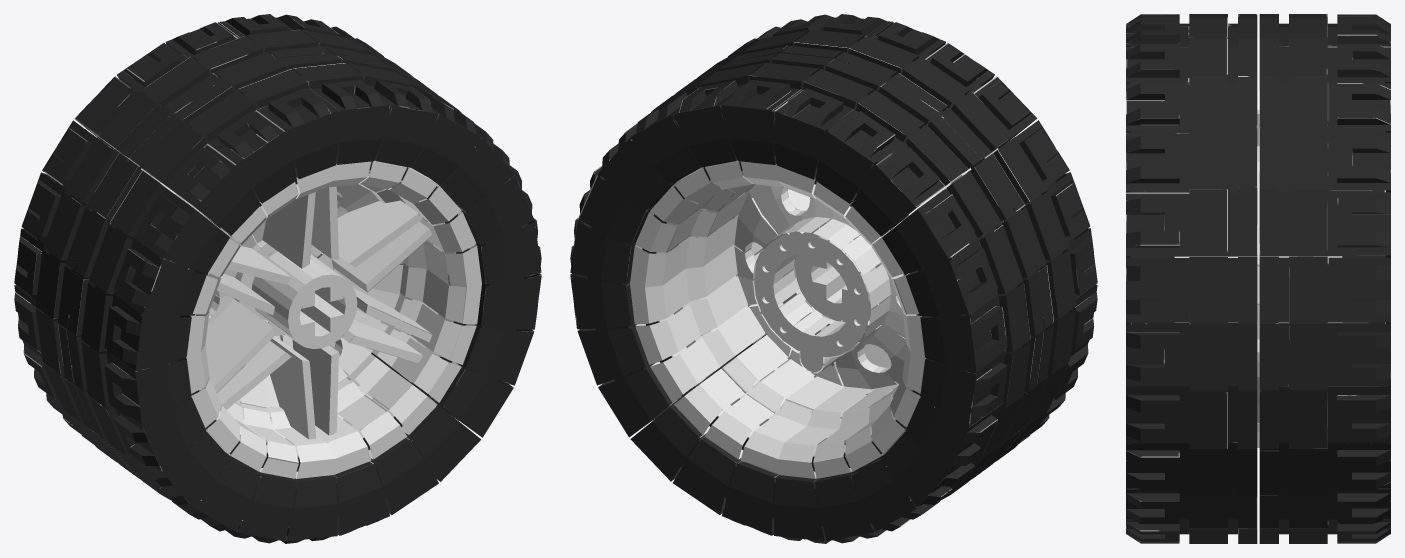
Rendered from Wheel.dae.
3 renders of one model, left to right at view 1: azimuth 30°, elevation 25°; view 2: azimuth 150°, elevation 25°; view 3: azimuth 270°, elevation 25°, orthographic. The views are drawn at different scales.
Visible parts, largest first — view 1: Wheel; view 2: Wheel; view 3: Wheel.
Part boxes in pixels (box(x1,y1,x2,y2)): Wheel: box(14, 14, 541, 543); Wheel: box(570, 14, 1097, 543); Wheel: box(1126, 14, 1390, 543).
Bounding box in the file's own units: 0.0537 × 0.0267 × 0.0537.
Materials: 2 (2 with a texture image).
